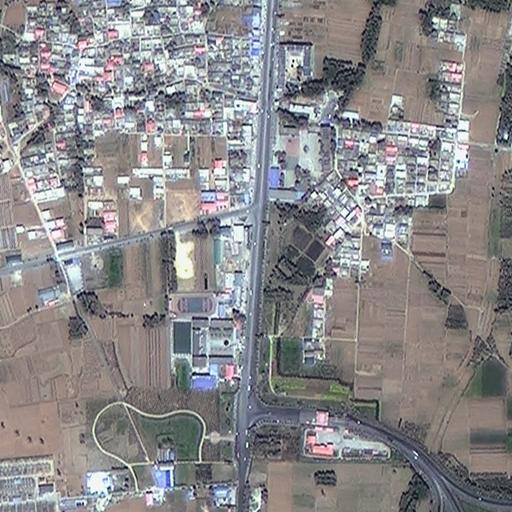school: (170, 295, 241, 388), (264, 112, 323, 205)
